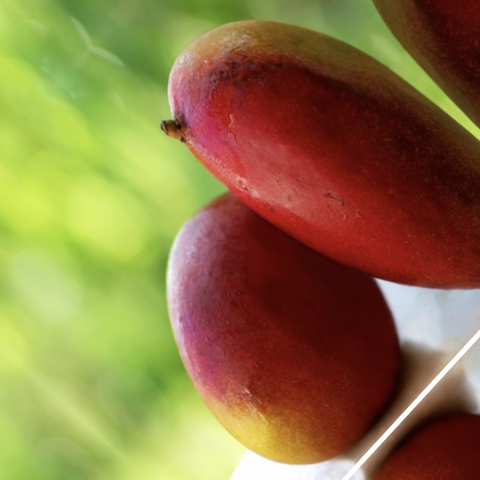mango: (113, 0, 480, 400), (84, 134, 475, 480)
